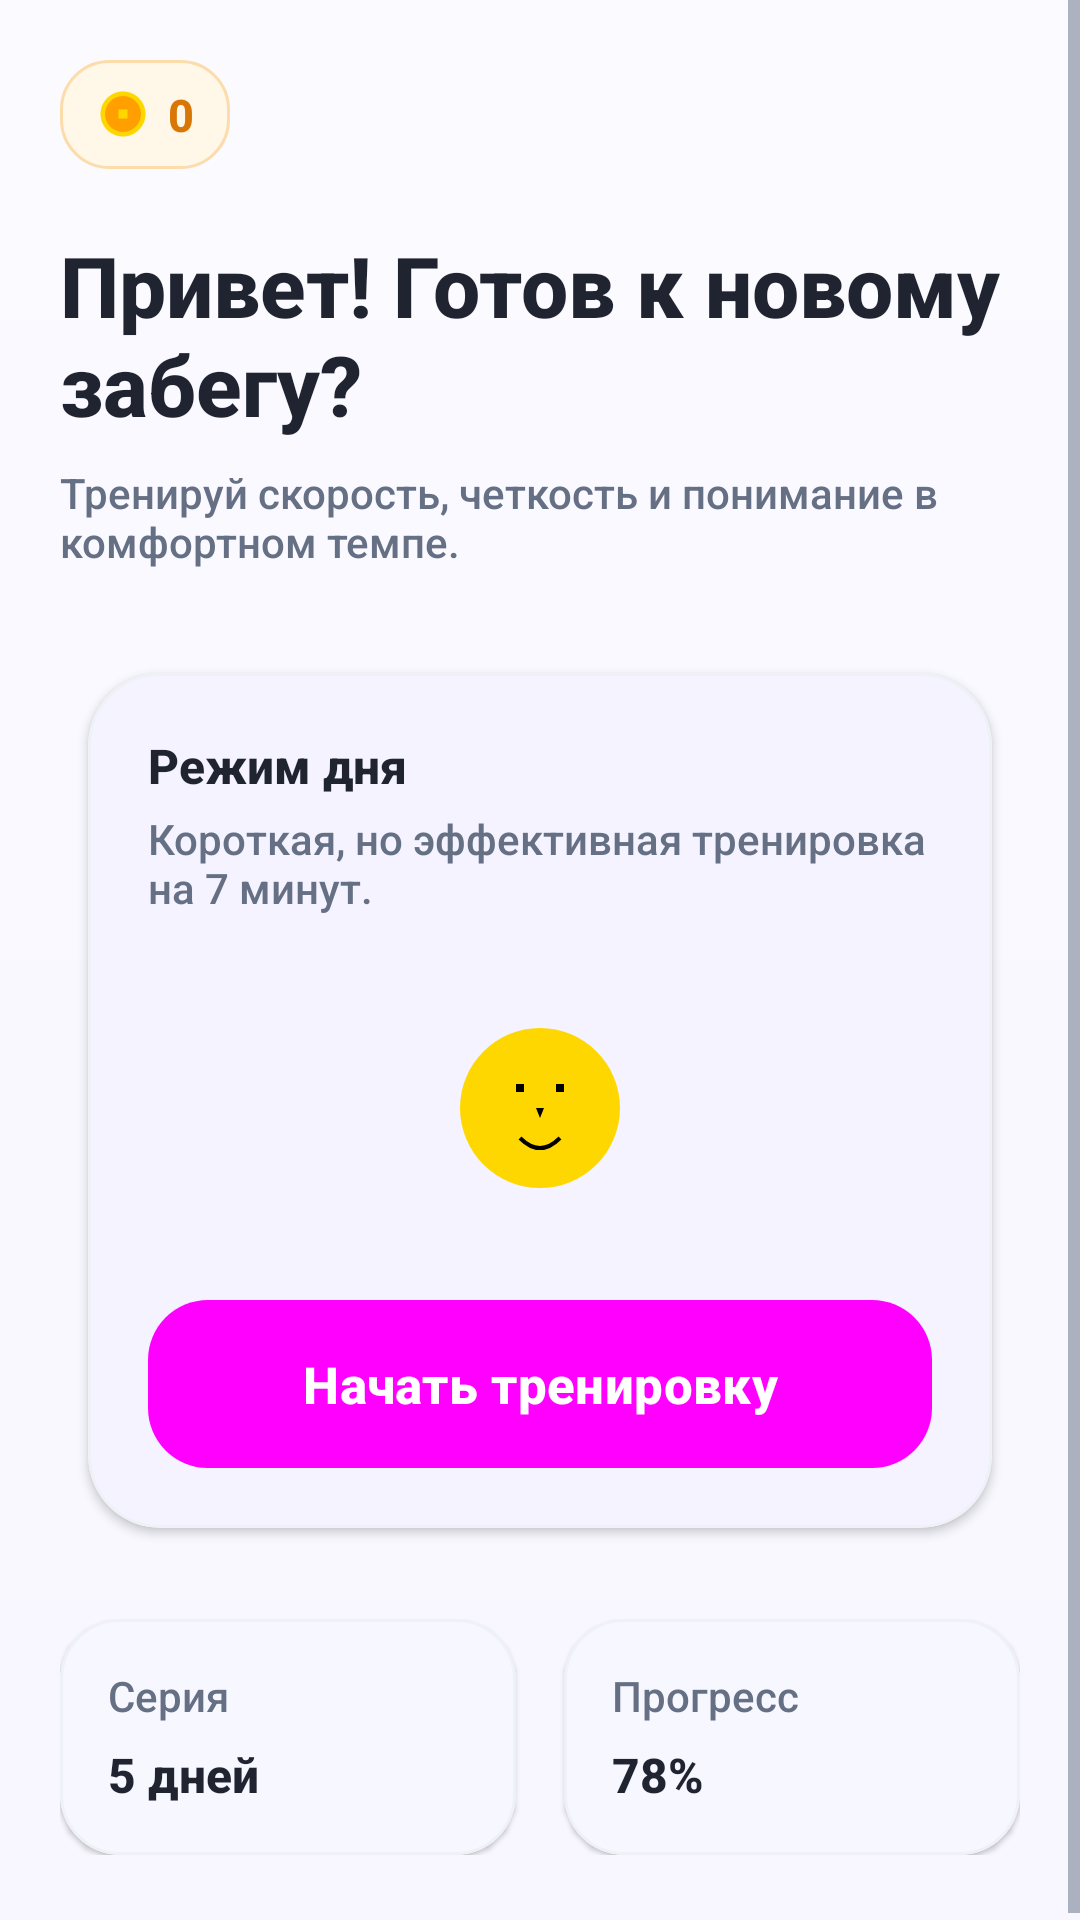

Screen size 1080*1920. Icon name, then its box in pixels as detection(x1, y1, x2, y2):
coin: detection(100, 91, 146, 137)
stickman face: detection(460, 1028, 620, 1188)
